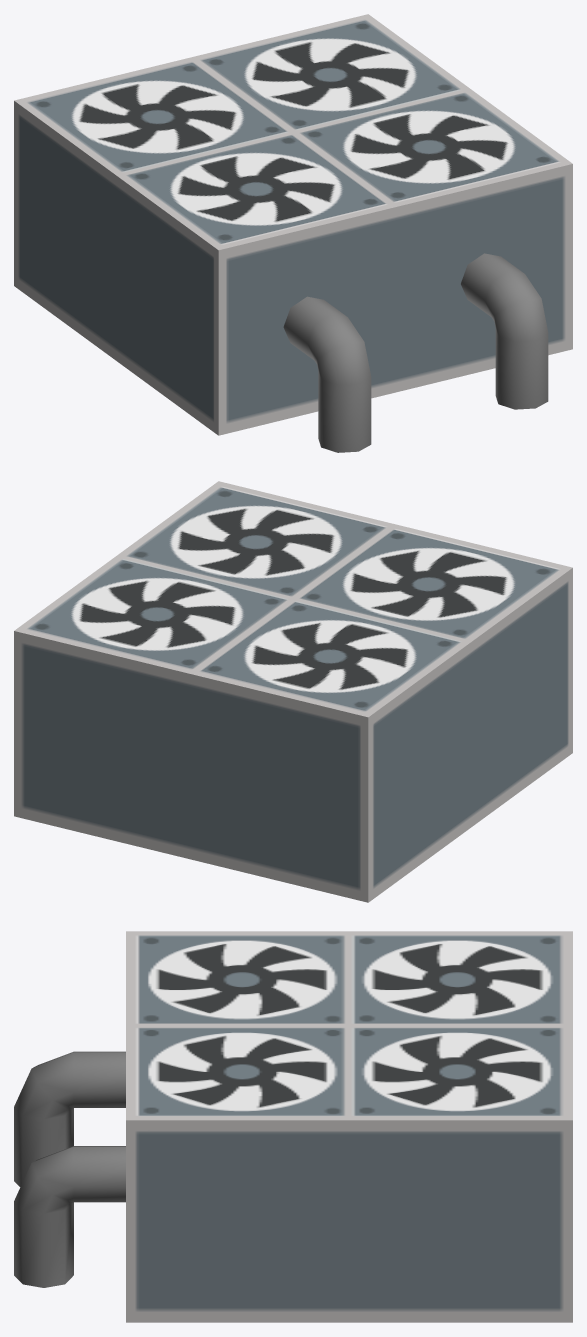
The model's file is fan_box.fbx.
3 views of the same model, one above another, from view 1: azimuth 30°, elevation 25°; view 2: azimuth 150°, elevation 25°; view 3: azimuth 270°, elevation 25° (orthographic). The views are drawn at different scales.
Parts seen in each view (by area): view 1: fan_box, pipe_right, pipe_left; view 2: fan_box; view 3: fan_box, pipe_right, pipe_left.
Boxes of the visible parts, left/top/right/bottom form: fan_box: left=14, top=14, right=572, bottom=435; pipe_right: left=461, top=253, right=548, bottom=409; pipe_left: left=283, top=296, right=371, bottom=452; fan_box: left=14, top=481, right=572, bottom=902; fan_box: left=126, top=931, right=572, bottom=1322; pipe_right: left=14, top=1146, right=125, bottom=1287; pipe_left: left=14, top=1051, right=125, bottom=1186.
Bounding box in the file's own units: 200 × 100 × 250.
